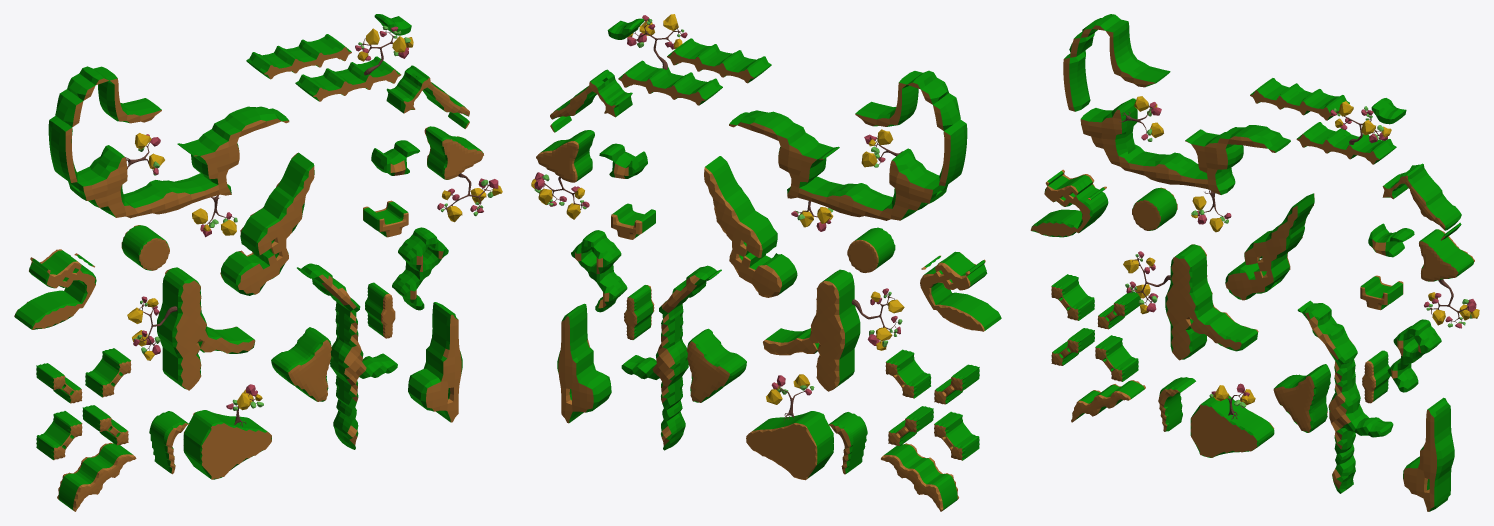
The model's file is JungleLevel.fbx.
3 views of the same model, side by side, from view 1: azimuth 30°, elevation 25°; view 2: azimuth 150°, elevation 25°; view 3: azimuth 330°, elevation 25° (orthographic). The views are drawn at different scales.
Parts seen in each view (by area): view 1: Cylinder.009, Cube.029, Cube.004, Cylinder.021, Cube.035, Cylinder.020, Cube.031, Cylinder.019, Cylinder.017, Cube.026, Cube.042, Cube.039 (+11 smaller); view 2: Cylinder.009, Cube.029, Cube.004, Cylinder.021, Cube.035, Cylinder.020, Cube.031, Cylinder.019, Cylinder.017, Cube.026, Cube.042, Cube.039 (+11 smaller); view 3: Cylinder.009, Cube.004, Cylinder.021, Cube.029, Cube.035, Cylinder.020, Cube.031, Cylinder.019, Cylinder.008, Cube.042, Cube.039, Cube.026 (+12 smaller).
Boxes of the visible parts, x1=… form: Cylinder.009: x1=48, y1=66, x2=289, y2=218; Cube.029: x1=220, y1=152, x2=314, y2=295; Cube.004: x1=157, y1=267, x2=255, y2=390; Cylinder.021: x1=297, y1=263, x2=397, y2=449; Cube.035: x1=183, y1=410, x2=271, y2=479; Cylinder.020: x1=408, y1=302, x2=462, y2=422; Cube.031: x1=14, y1=249, x2=96, y2=329; Cylinder.019: x1=271, y1=327, x2=331, y2=401; Cylinder.017: x1=57, y1=442, x2=136, y2=511; Cube.026: x1=392, y1=227, x2=448, y2=310; Cube.042: x1=246, y1=34, x2=351, y2=79; Cube.039: x1=295, y1=56, x2=401, y2=101; Cylinder.009: x1=729, y1=70, x2=967, y2=220; Cube.029: x1=704, y1=156, x2=797, y2=297; Cube.004: x1=763, y1=269, x2=860, y2=391; Cylinder.021: x1=621, y1=265, x2=721, y2=450; Cube.035: x1=746, y1=411, x2=833, y2=480; Cylinder.020: x1=557, y1=303, x2=611, y2=423; Cube.031: x1=920, y1=251, x2=1001, y2=331; Cylinder.019: x1=686, y1=328, x2=746, y2=402; Cylinder.017: x1=881, y1=443, x2=958, y2=511; Cube.026: x1=571, y1=230, x2=627, y2=312; Cube.042: x1=667, y1=38, x2=771, y2=83; Cube.039: x1=618, y1=60, x2=722, y2=105; Cylinder.009: x1=1063, y1=14, x2=1290, y2=194; Cube.004: x1=1165, y1=244, x2=1258, y2=360; Cylinder.021: x1=1297, y1=300, x2=1393, y2=493; Cube.029: x1=1225, y1=193, x2=1314, y2=300; Cube.035: x1=1190, y1=395, x2=1274, y2=457; Cylinder.020: x1=1403, y1=397, x2=1454, y2=511; Cube.031: x1=1030, y1=169, x2=1108, y2=237; Cylinder.019: x1=1273, y1=364, x2=1330, y2=432; Cylinder.008: x1=1382, y1=163, x2=1461, y2=240; Cube.042: x1=1250, y1=78, x2=1349, y2=120; Cube.039: x1=1296, y1=122, x2=1396, y2=164; Cube.026: x1=1387, y1=319, x2=1441, y2=392.
Bounding box in the file's own units: 7580 × 6690 × 787.
